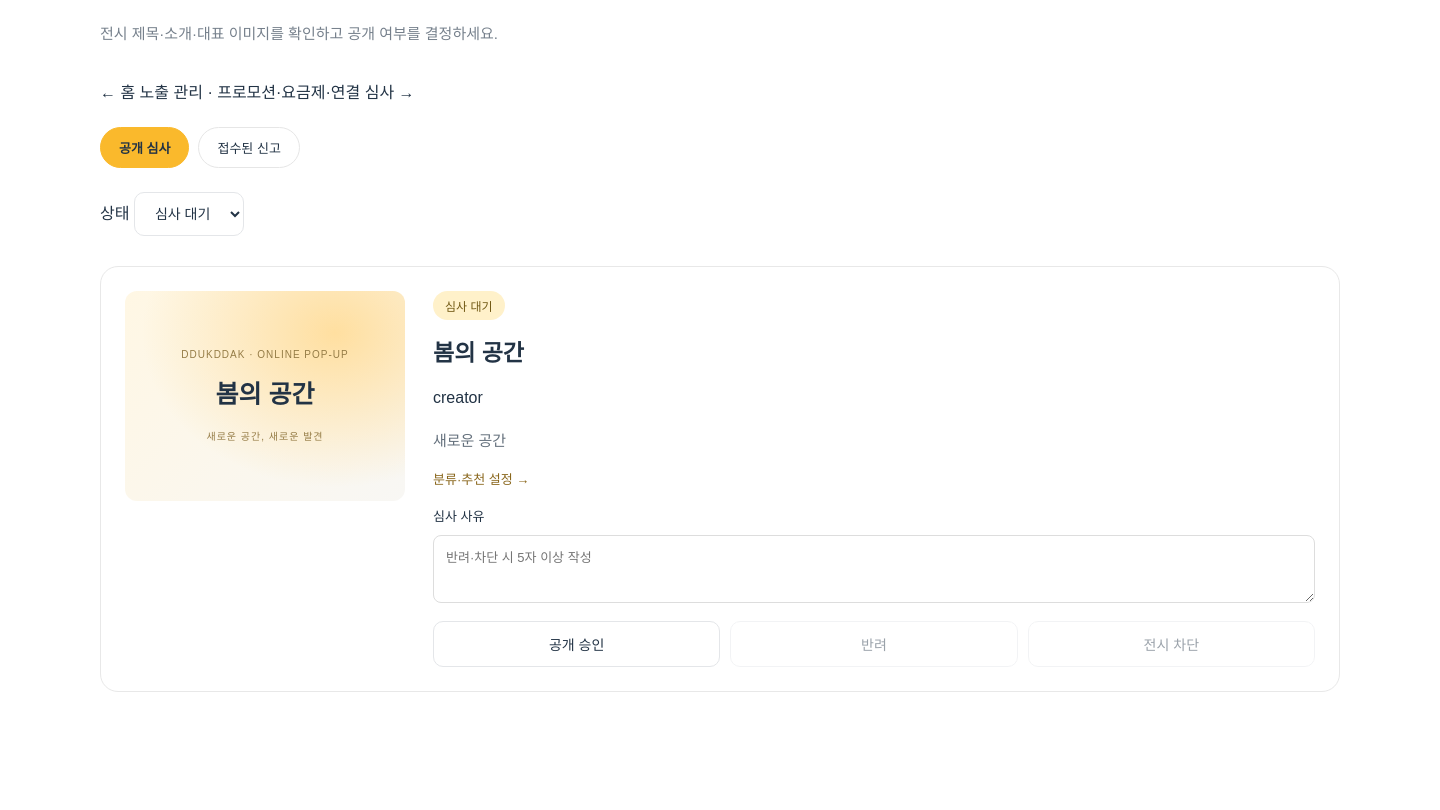
admin approval includes the reviewed snapshot hash and displays concurrent-change conflicts
The image size is (1440, 810).
(page scrolled)
Click the button "공개 승인": (577, 644) [433,621,720,667]
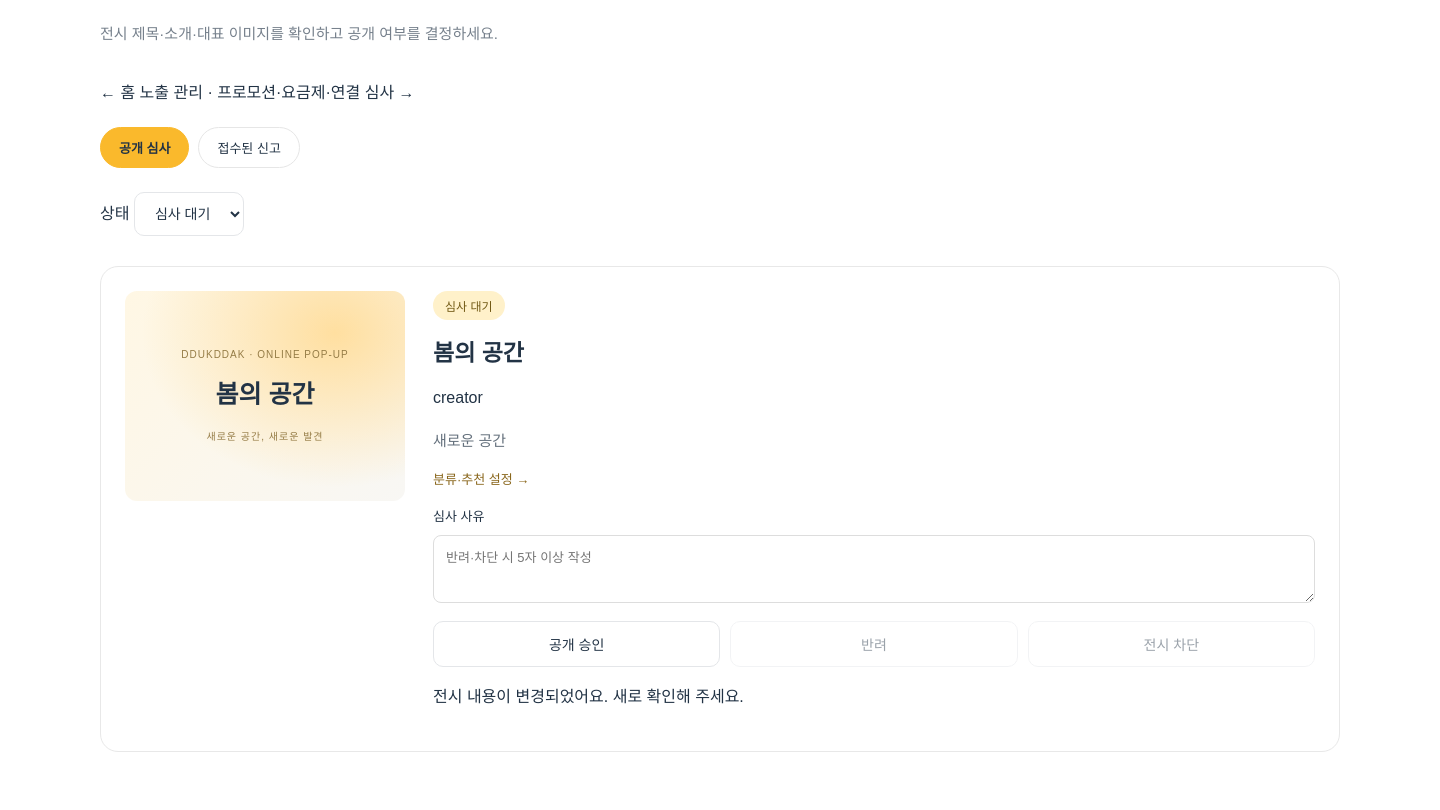
expect the button "반려" is disabled: met, box [730,621,1018,667]
expect the message shows "전시 내용이 변경": met, box [433,688,744,705]
